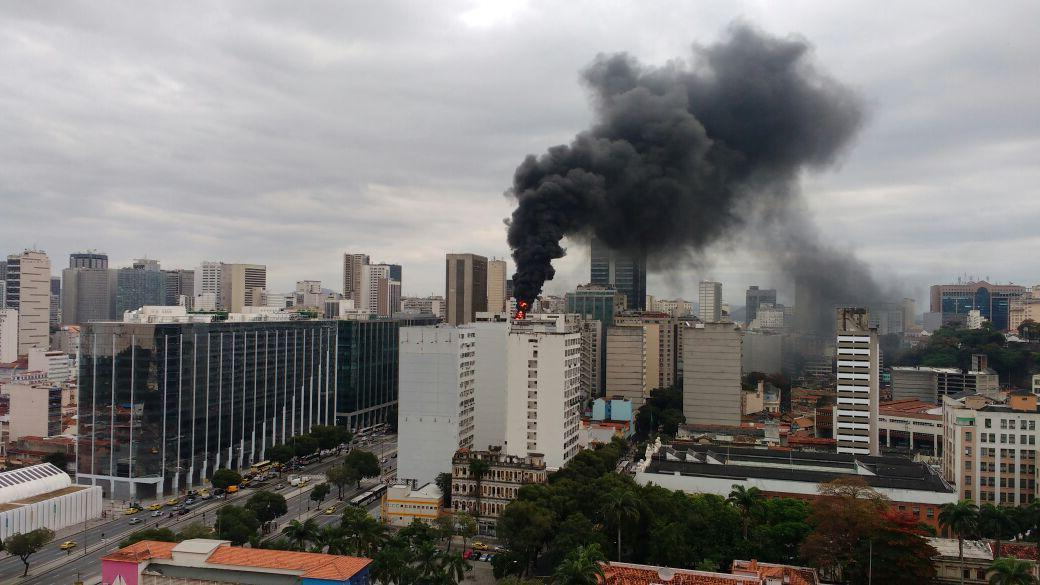Fire: (519, 302, 532, 321)
